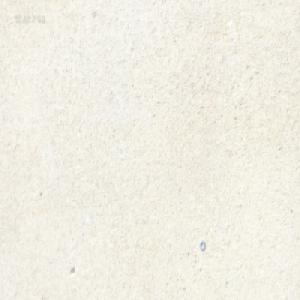Washer: (199, 239, 205, 250)
